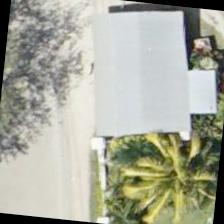Kelapa_Sawit: (124, 131, 221, 223)
